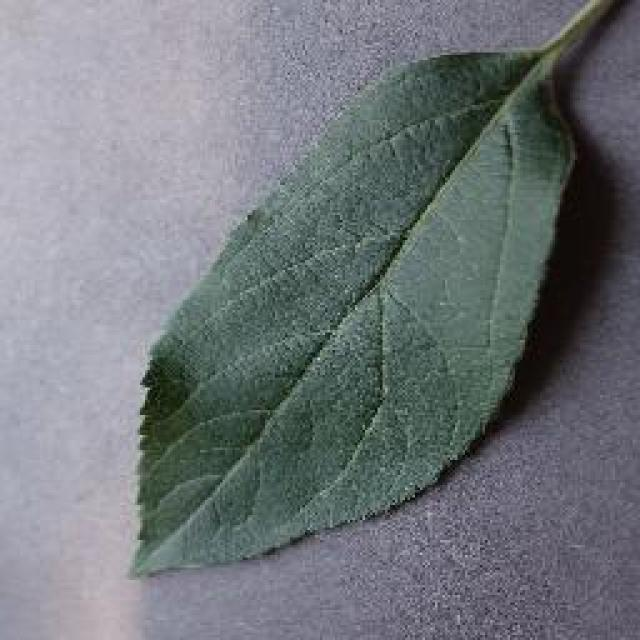apple healthy: (125, 0, 637, 578)
